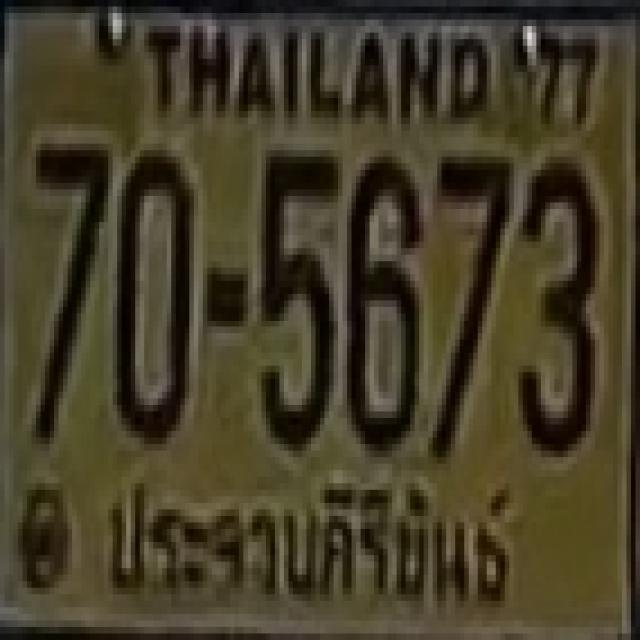0: (113, 144, 189, 438)
3: (514, 157, 595, 450)
5: (255, 150, 331, 444)
6: (343, 154, 419, 448)
7: (428, 153, 509, 454), (32, 140, 104, 434), (32, 137, 104, 346)
PKN: (90, 473, 521, 618)
